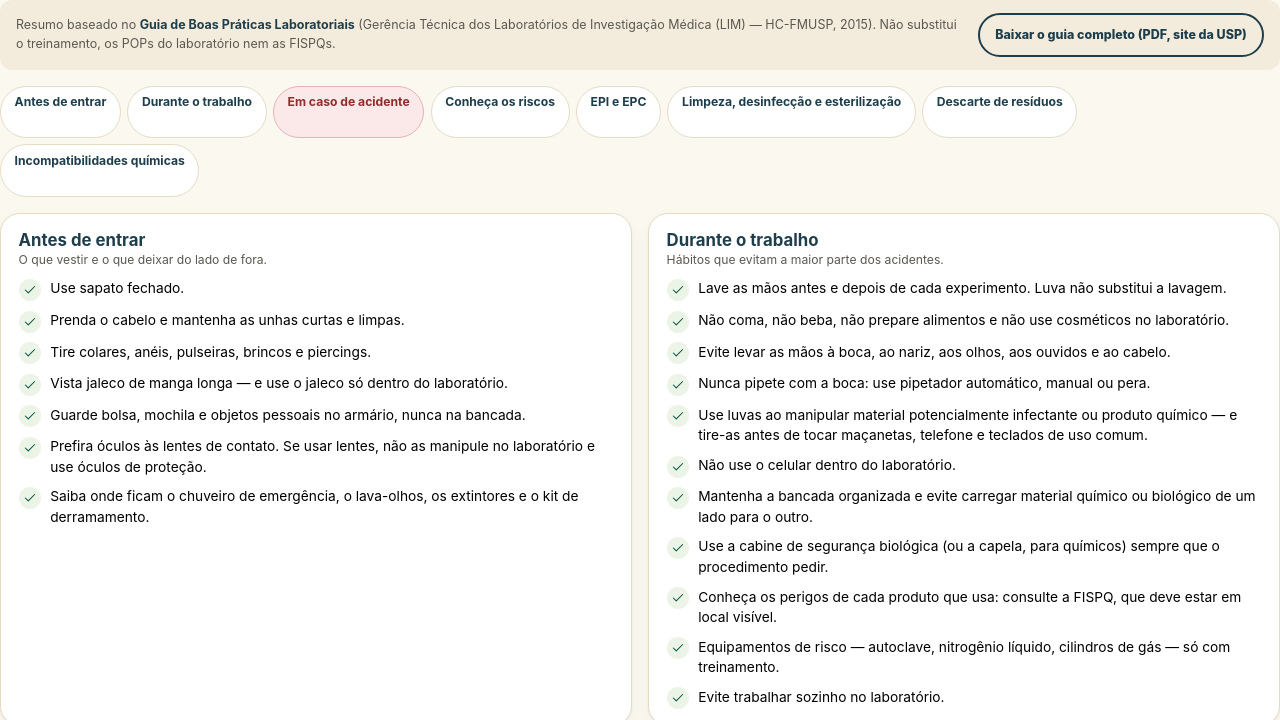
Test case: GoodPracticesGuide › filtra as incompatibilidades químicas pela busca
Click the link "Incompatibilidades químicas".
click(100, 171)  # box [0,144,199,197]
(page scrolled)
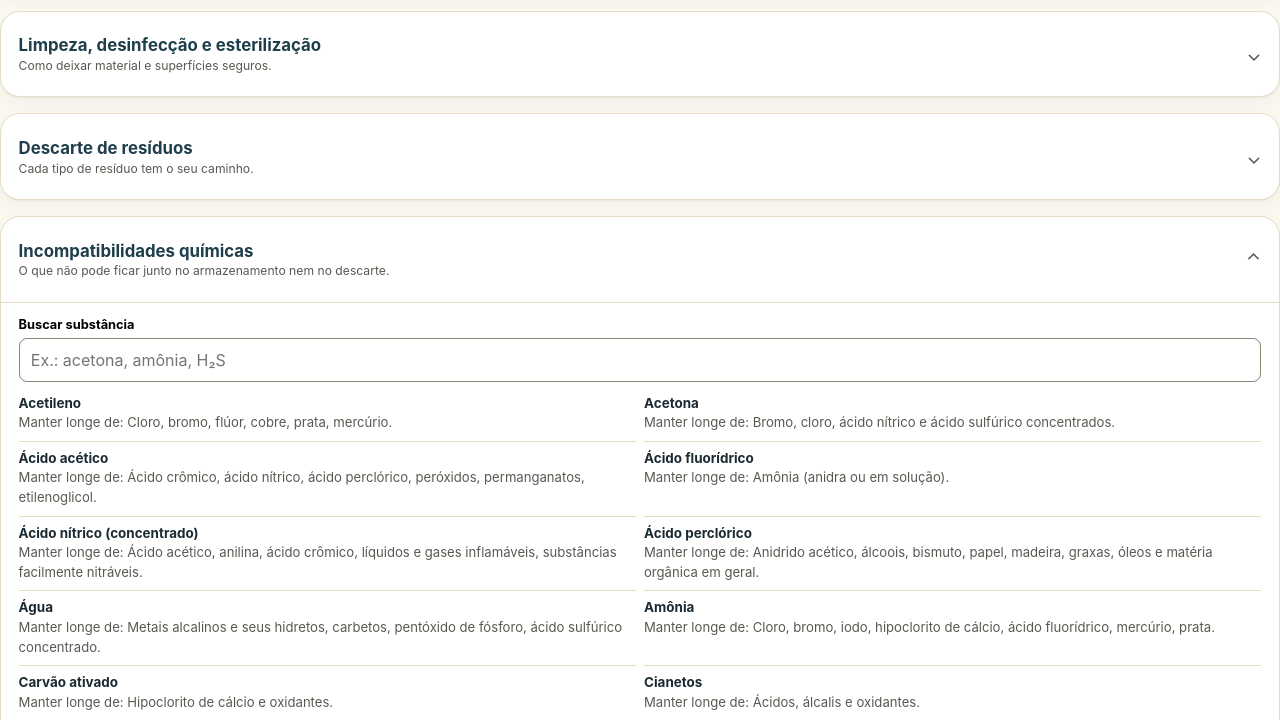
Type "acetona" into the search field labelled "Buscar substância".
click(640, 360); type("acetona")  # box [19,338,1261,382]
(page scrolled)
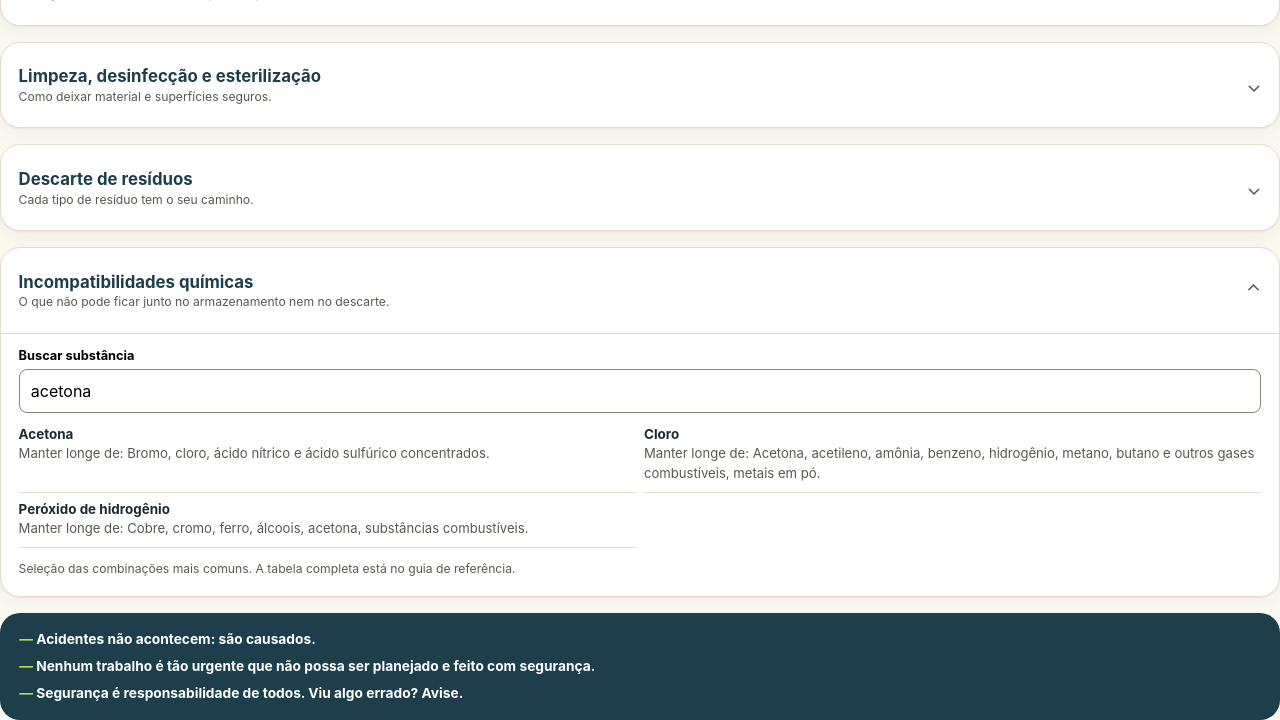
Result: the text "Acetona" is shown at [19,426,73,442]
Result: the text "mercúrio" is gone
